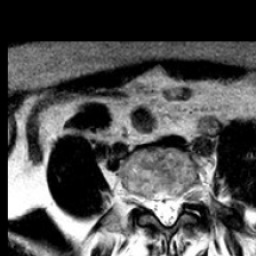CCS_normal: (161, 185, 171, 235)
LFS_normal: (182, 175, 192, 216)
LLS_normal: (171, 185, 182, 231)
RFS_normal: (140, 182, 150, 219)
RLS_normal: (150, 187, 161, 228)
